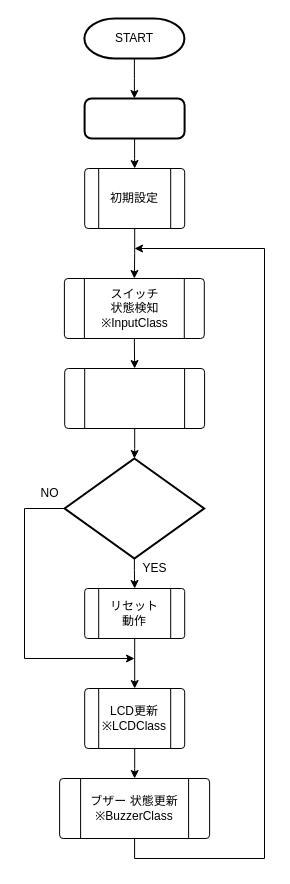
The diagram is 290 pixels wide and 884 high, and some of its shapes have lost their labels. The centre of each missing label's shape, as x and y in pixels:
"リセット動作状態 がONか" belongs at (x=134, y=508).
"状態遷移処理 ※CountClass" belongs at (x=134, y=398).
"電源ON" belongs at (x=134, y=118).
